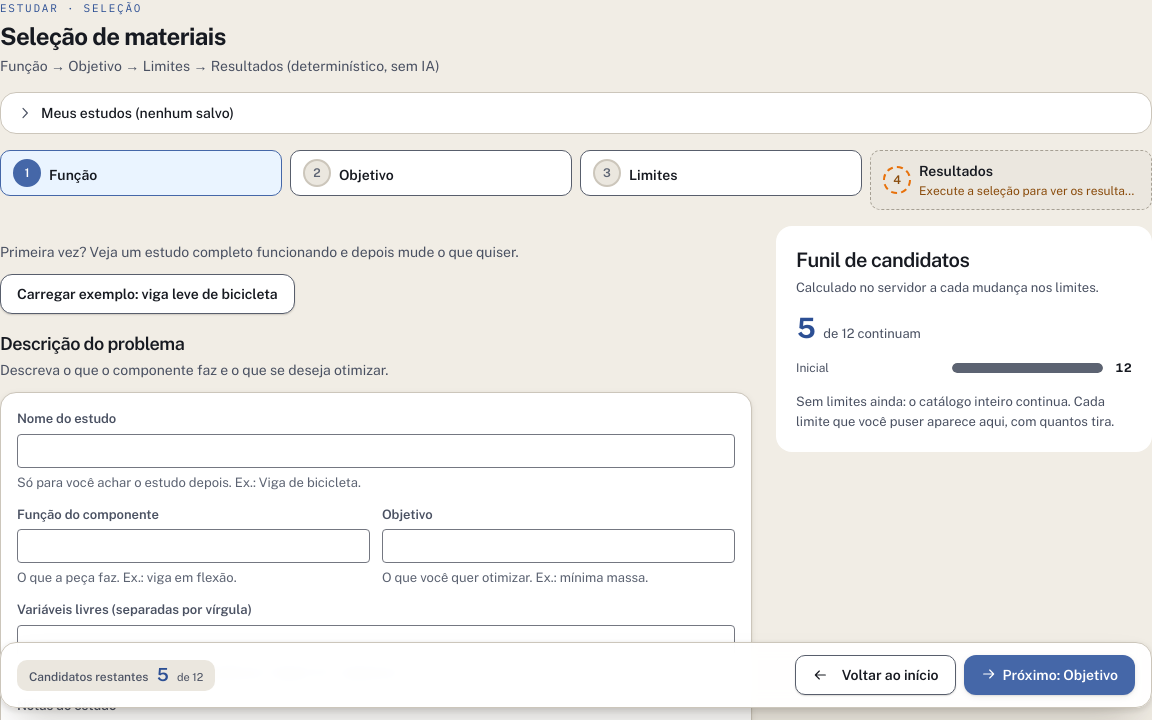
Test case: objetivo em blocos (D-85) › locks criteria until the index is confirmed, then folds the index with Alterar
Click the button "2 Objetivo": (366, 175) [290,150,572,196]
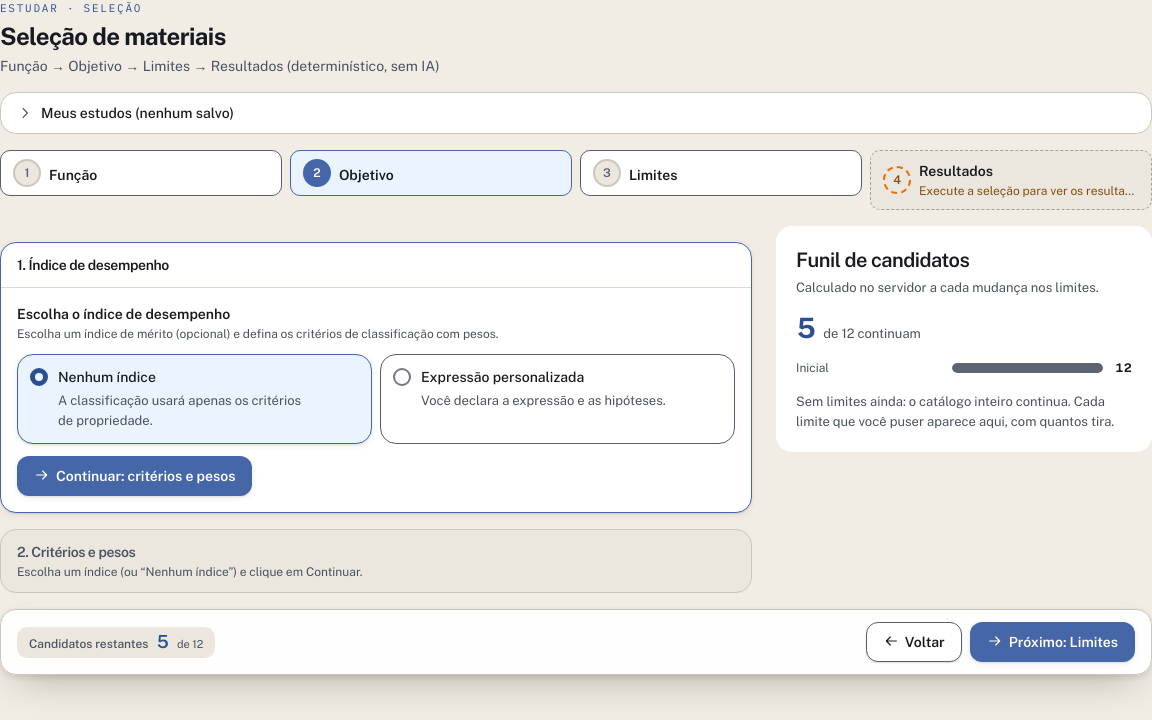
Check: the button "Adicionar critério" is not shown
Check: the text "Escolha um índice (ou “Nenhum índice”) e clique em Continuar." is shown, box [17,565,362,579]
Click the button "Continuar: critérios e pesos": (135, 476) [17,456,252,496]
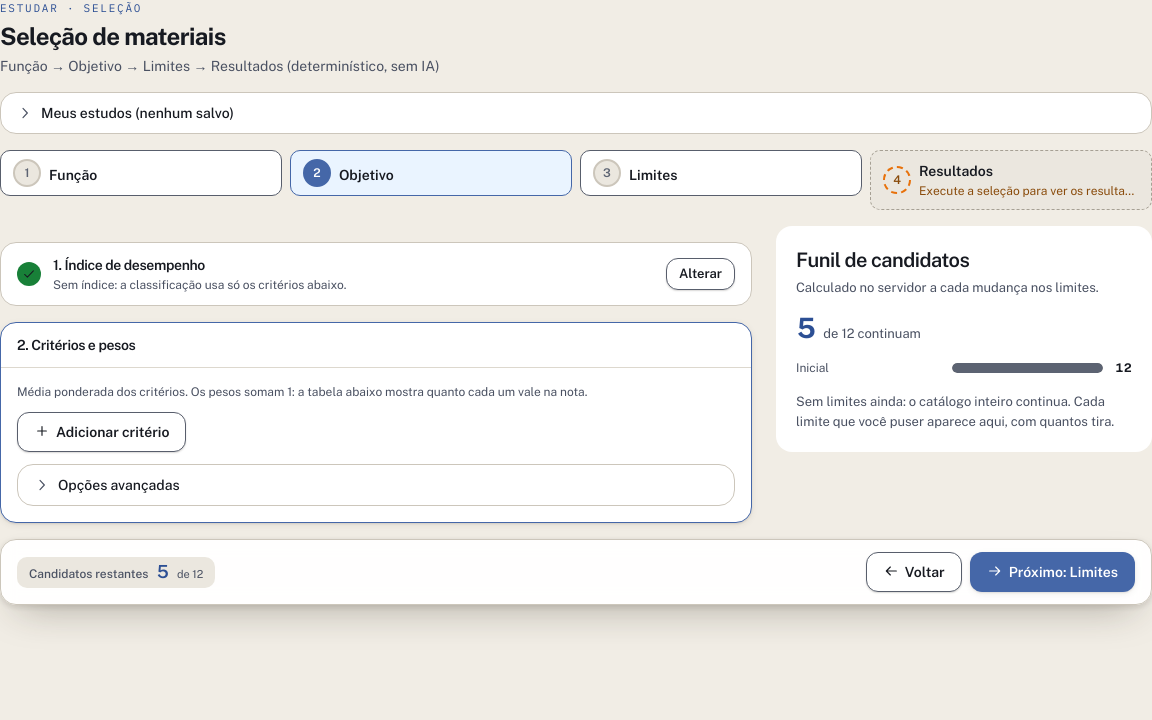
Check: the text "Sem índice: a classificação usa só os critérios abaixo." is shown, box [53,278,346,292]
Check: the button "Adicionar critério" is shown, box [17,412,186,452]
Click the button "Alterar": (700, 274) [666,258,735,290]
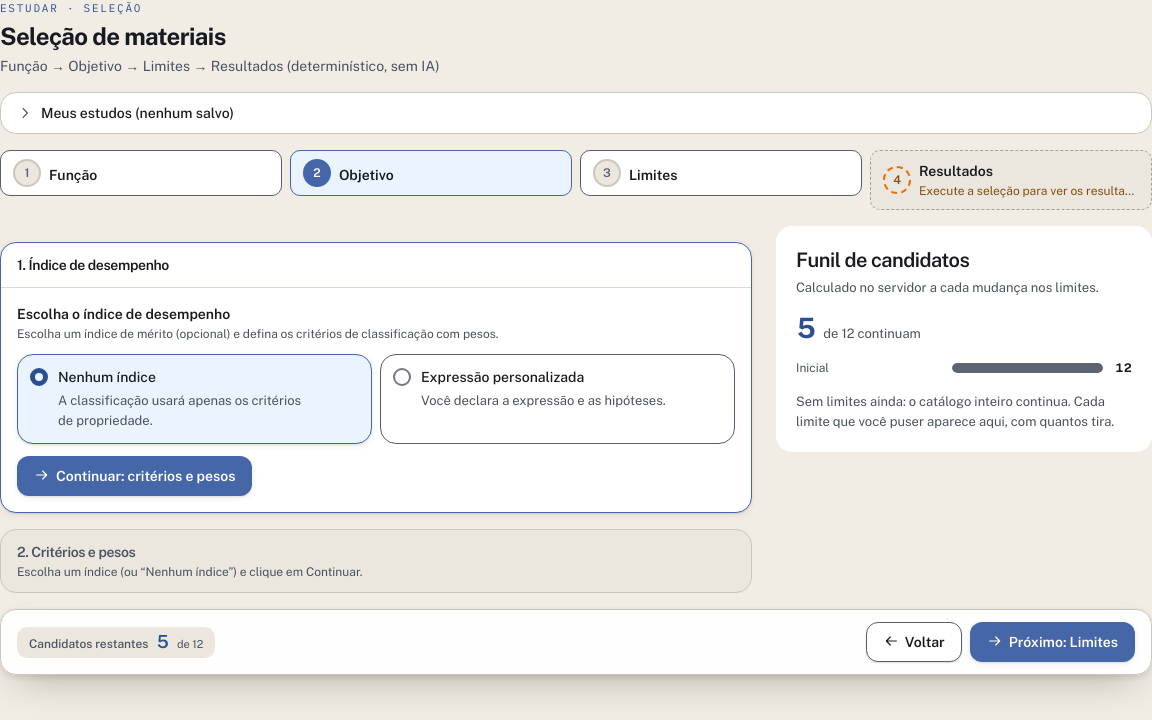
Check: the button "Continuar: critérios e pesos" is shown, box [17,456,252,496]
